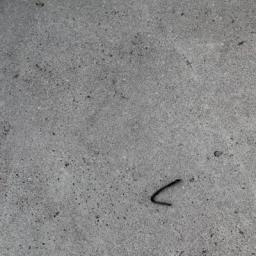FOD: (150, 177, 185, 211)
